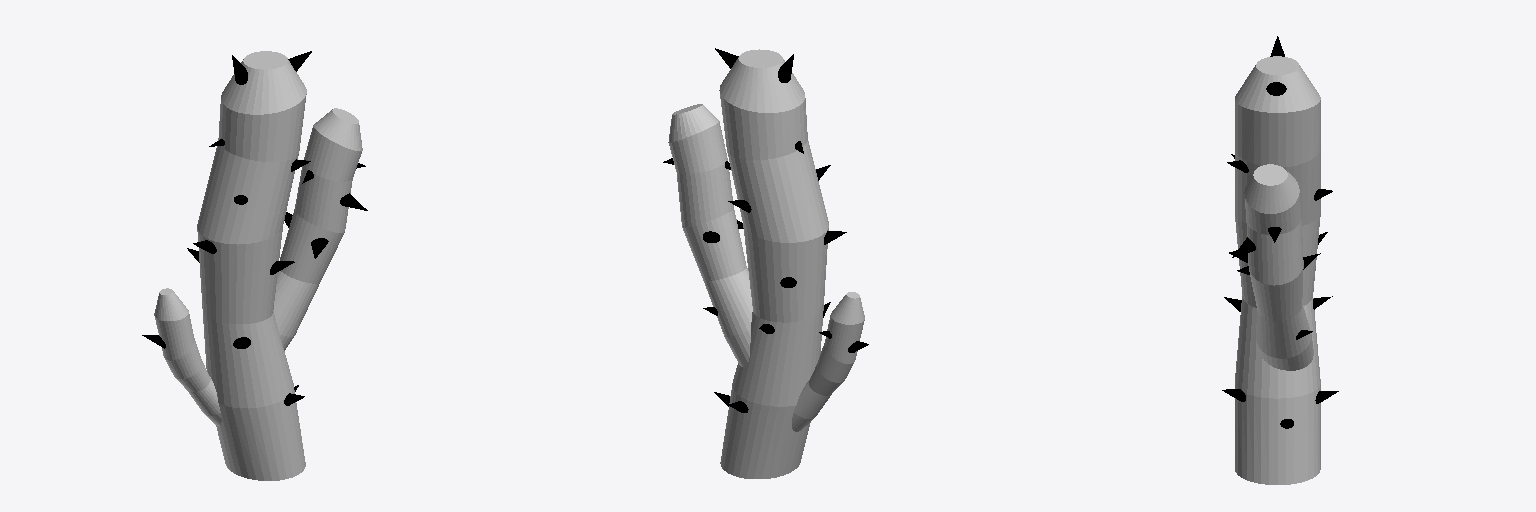
Rendered from Cactus1.obj.
3 renders of one model, left to right at view 1: azimuth 30°, elevation 25°; view 2: azimuth 150°, elevation 25°; view 3: azimuth 270°, elevation 25°, orthographic.
Parts seen in each view (by area): view 1: Cylinder, Cone; view 2: Cylinder, Cone; view 3: Cylinder, Cone.
Boxes of the visible parts, x1=… form: Cylinder: x1=154, y1=51, x2=362, y2=480; Cone: x1=142, y1=51, x2=367, y2=405; Cylinder: x1=668, y1=49, x2=864, y2=478; Cone: x1=663, y1=48, x2=868, y2=412; Cylinder: x1=1235, y1=56, x2=1320, y2=484; Cone: x1=1222, y1=36, x2=1338, y2=428.
Size of the model in its own units: 5.78 by 10.66 by 2.75.